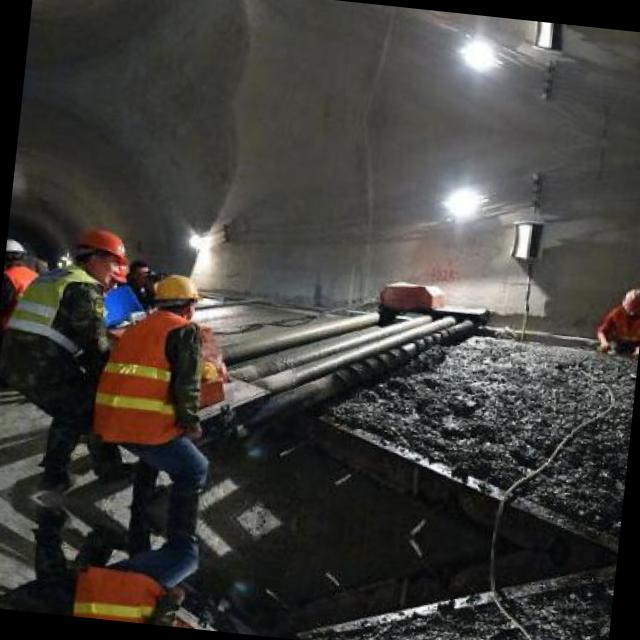helmet: (65, 224, 131, 286), (146, 270, 202, 324), (616, 279, 640, 324), (4, 229, 26, 266)
